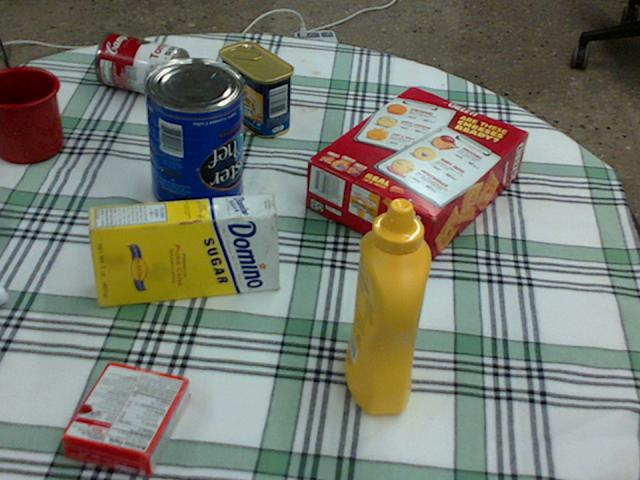cracker_box: (307, 87, 527, 264)
gelatin_box: (62, 361, 188, 475)
large_marker: (0, 284, 7, 303)
master_chef_can: (141, 58, 242, 218)
mug: (0, 65, 64, 161)
mustard_bottle: (345, 198, 431, 412)
potted_meat_can: (218, 42, 293, 137)
sugar_box: (87, 194, 278, 305)
tomato_soup_can: (95, 32, 189, 97)
